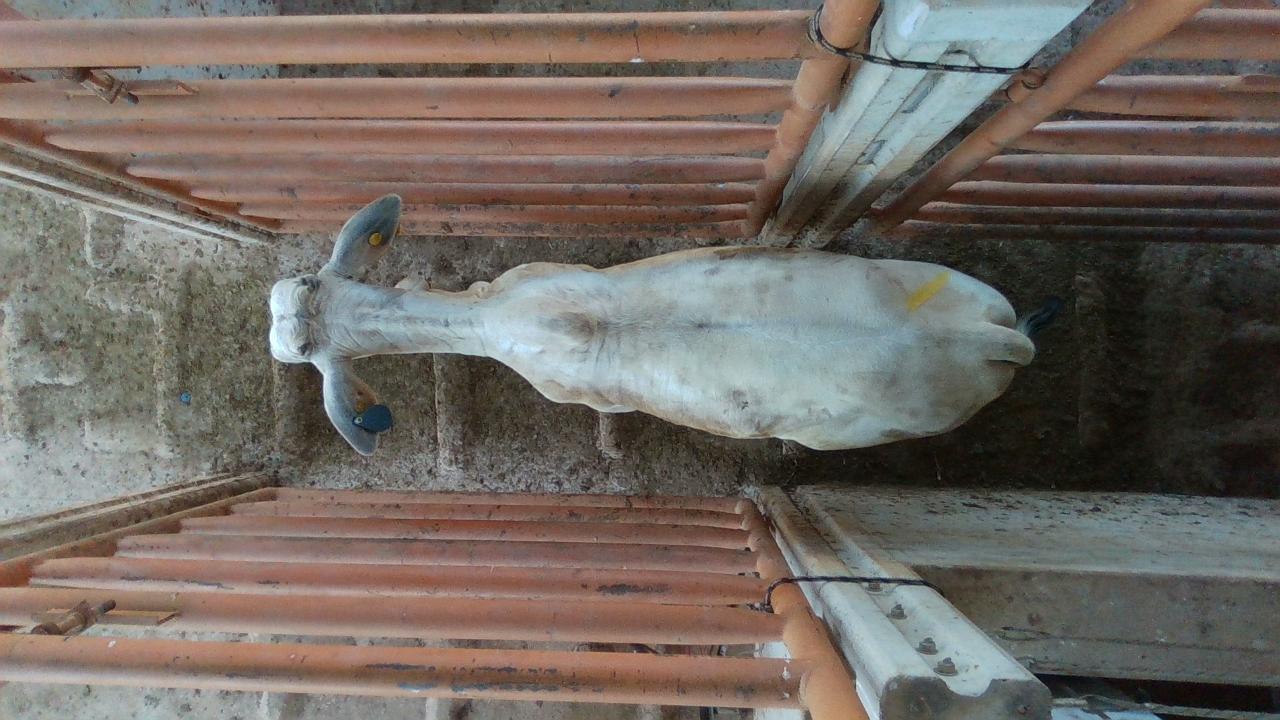cattle: (266, 191, 1059, 458)
